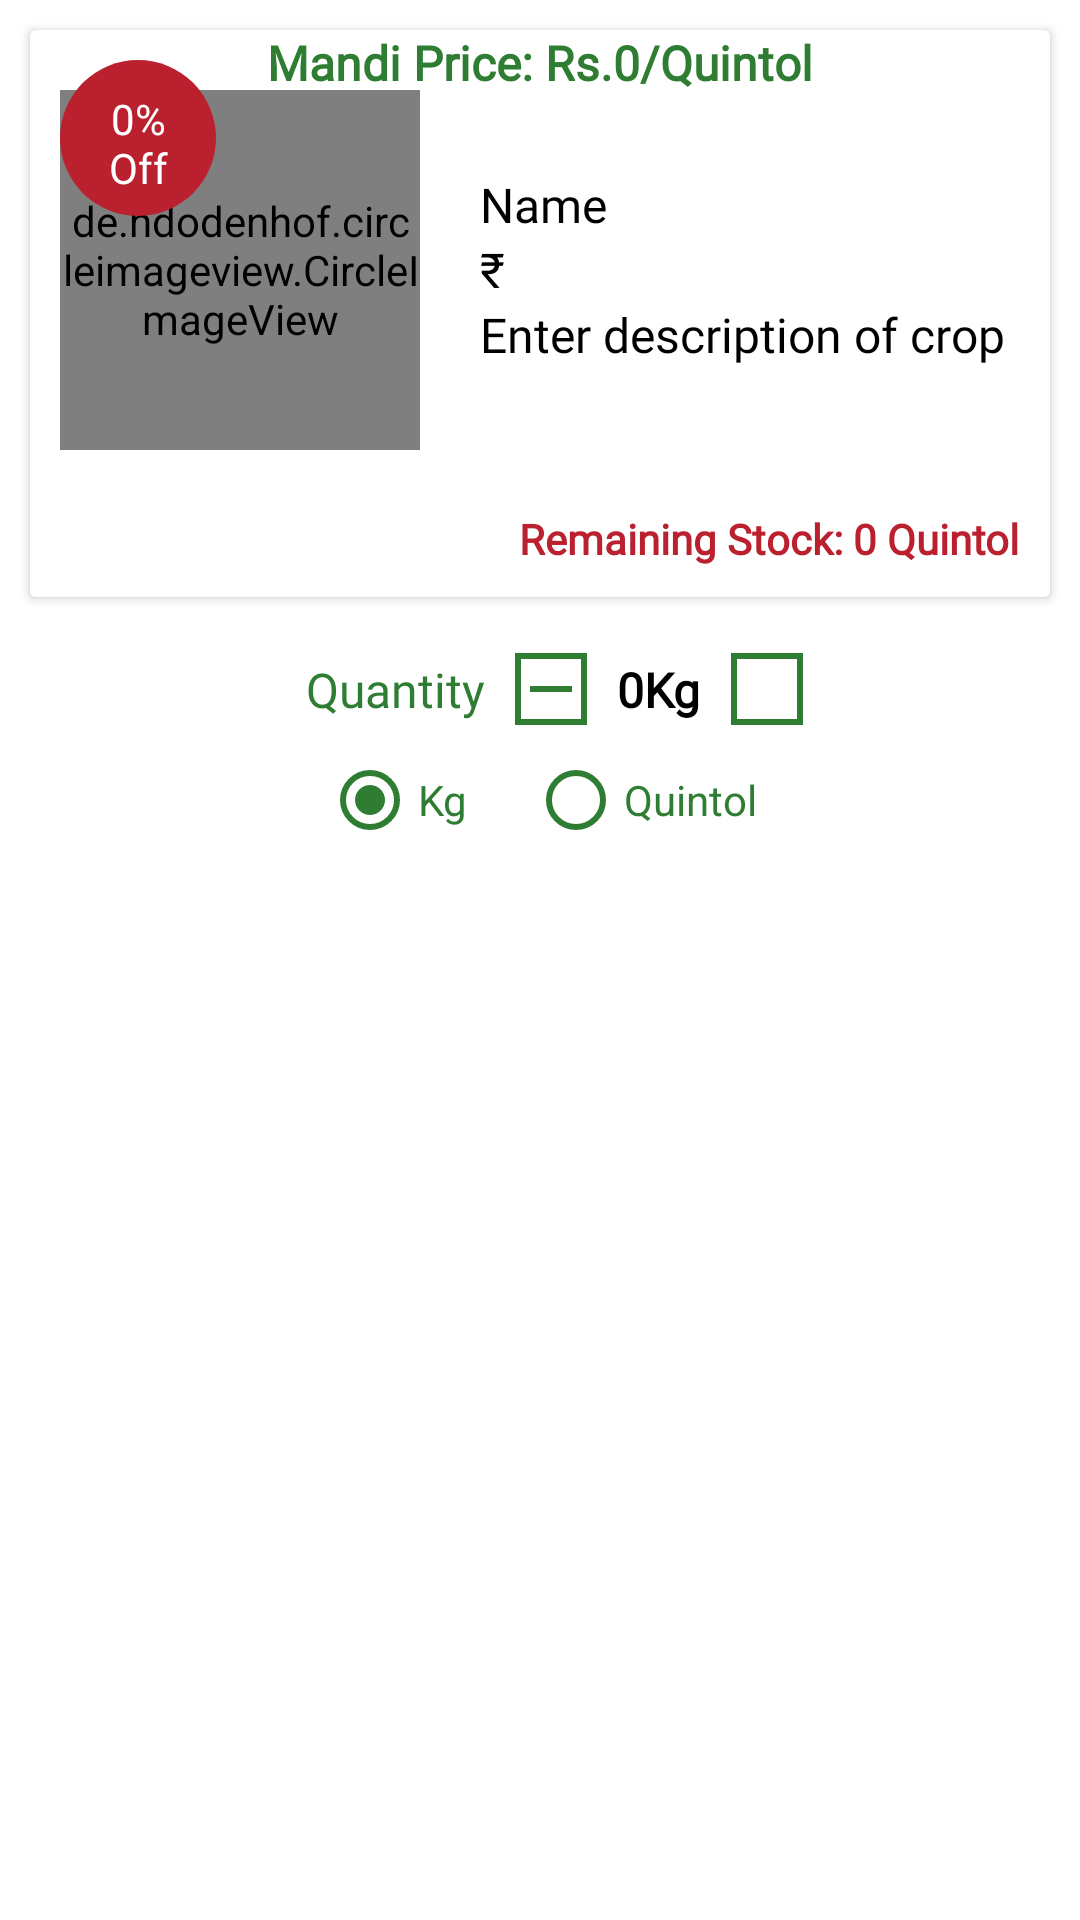

Screen size 1080*1920. Icon name, then its center in pixels as (x=x, y=y):
remove: (x=551, y=689)
